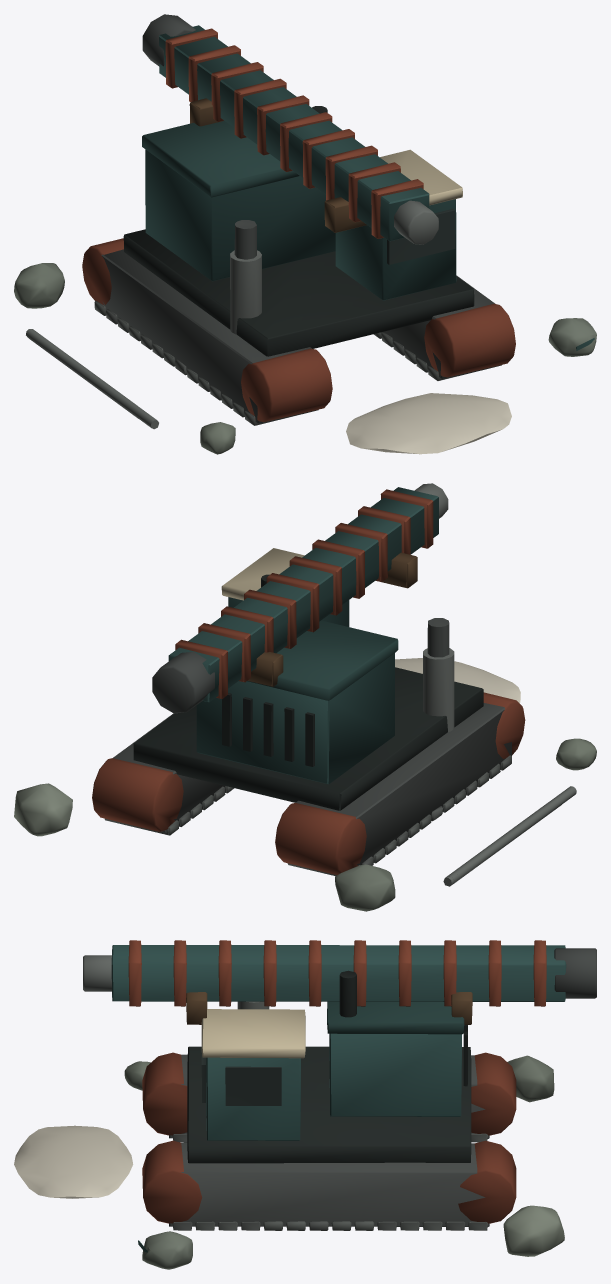
File: drill_rig_wreck_a_lod1.glb
3 views of the same model, one above another, from view 1: azimuth 30°, elevation 25°; view 2: azimuth 150°, elevation 25°; view 3: azimuth 270°, elevation 25° (orthographic).
Visible parts, largest first — view 1: Surface.001; view 2: Surface.001; view 3: Surface.001.
Boxes of the visible parts, left/top/right/bottom form: Surface.001: left=14, top=14, right=596, bottom=454; Surface.001: left=14, top=483, right=596, bottom=911; Surface.001: left=14, top=940, right=596, bottom=1269.
Bounding box in the file's own units: 10.12 × 5.32 × 12.31.
